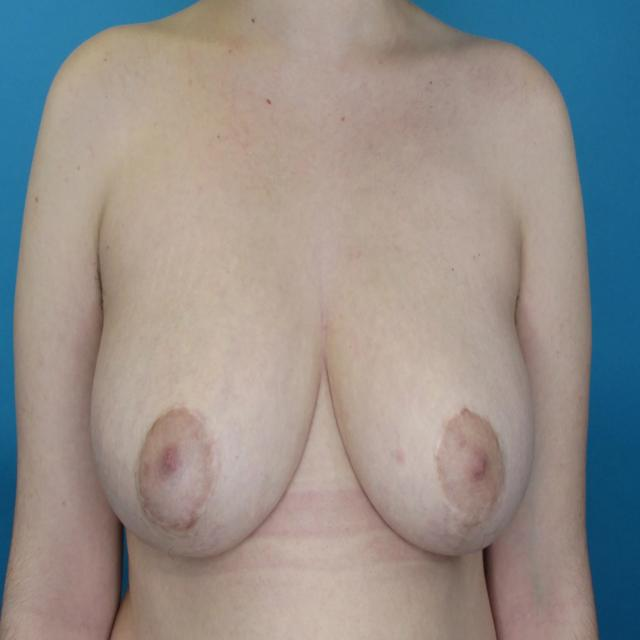Seno ileso: (84, 260, 323, 586), (326, 260, 541, 586)
